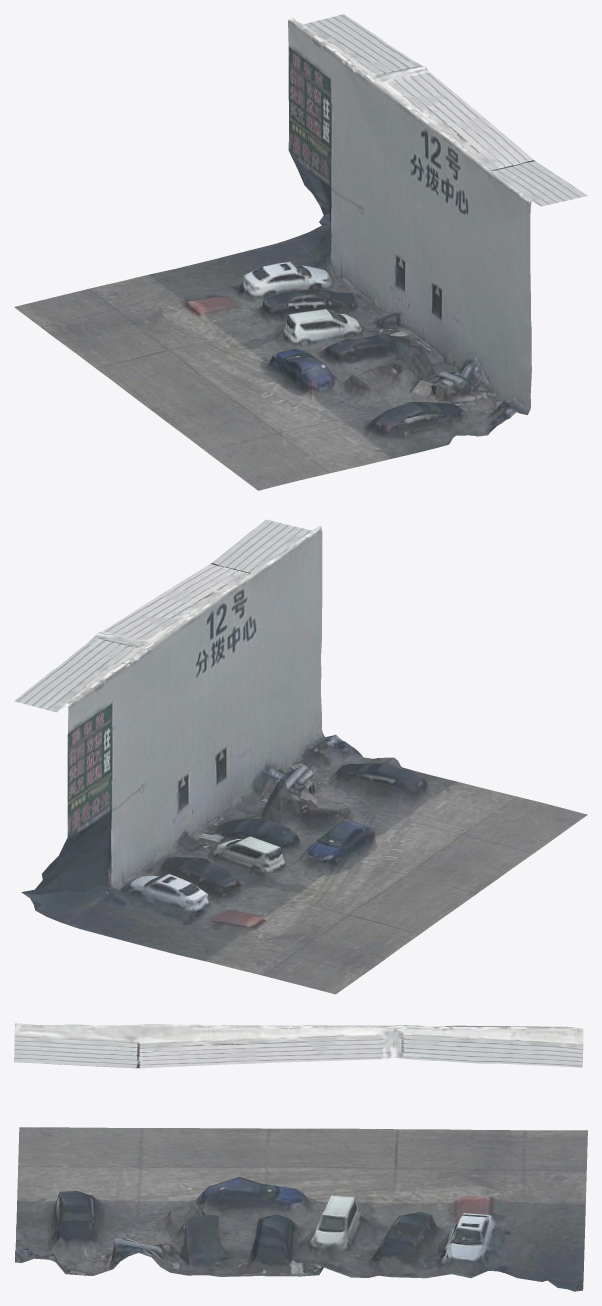
The model's file is Tile_+004_+005_L20_0uuuu33.glb.
3 views of the same model, one above another, from view 1: azimuth 30°, elevation 25°; view 2: azimuth 150°, elevation 25°; view 3: azimuth 270°, elevation 25° (orthographic). The views are drawn at different scales.
Visible parts, largest first — view 1: rtc; view 2: rtc; view 3: rtc.
Boxes of the visible parts, x1,y1,x2,y2 form: rtc: (14,14,587,490); rtc: (14,519,587,994); rtc: (14,1023,587,1291).
Bounding box in the file's own units: 20.56 × 13.3 × 26.96.
2 materials, 2 textured.
